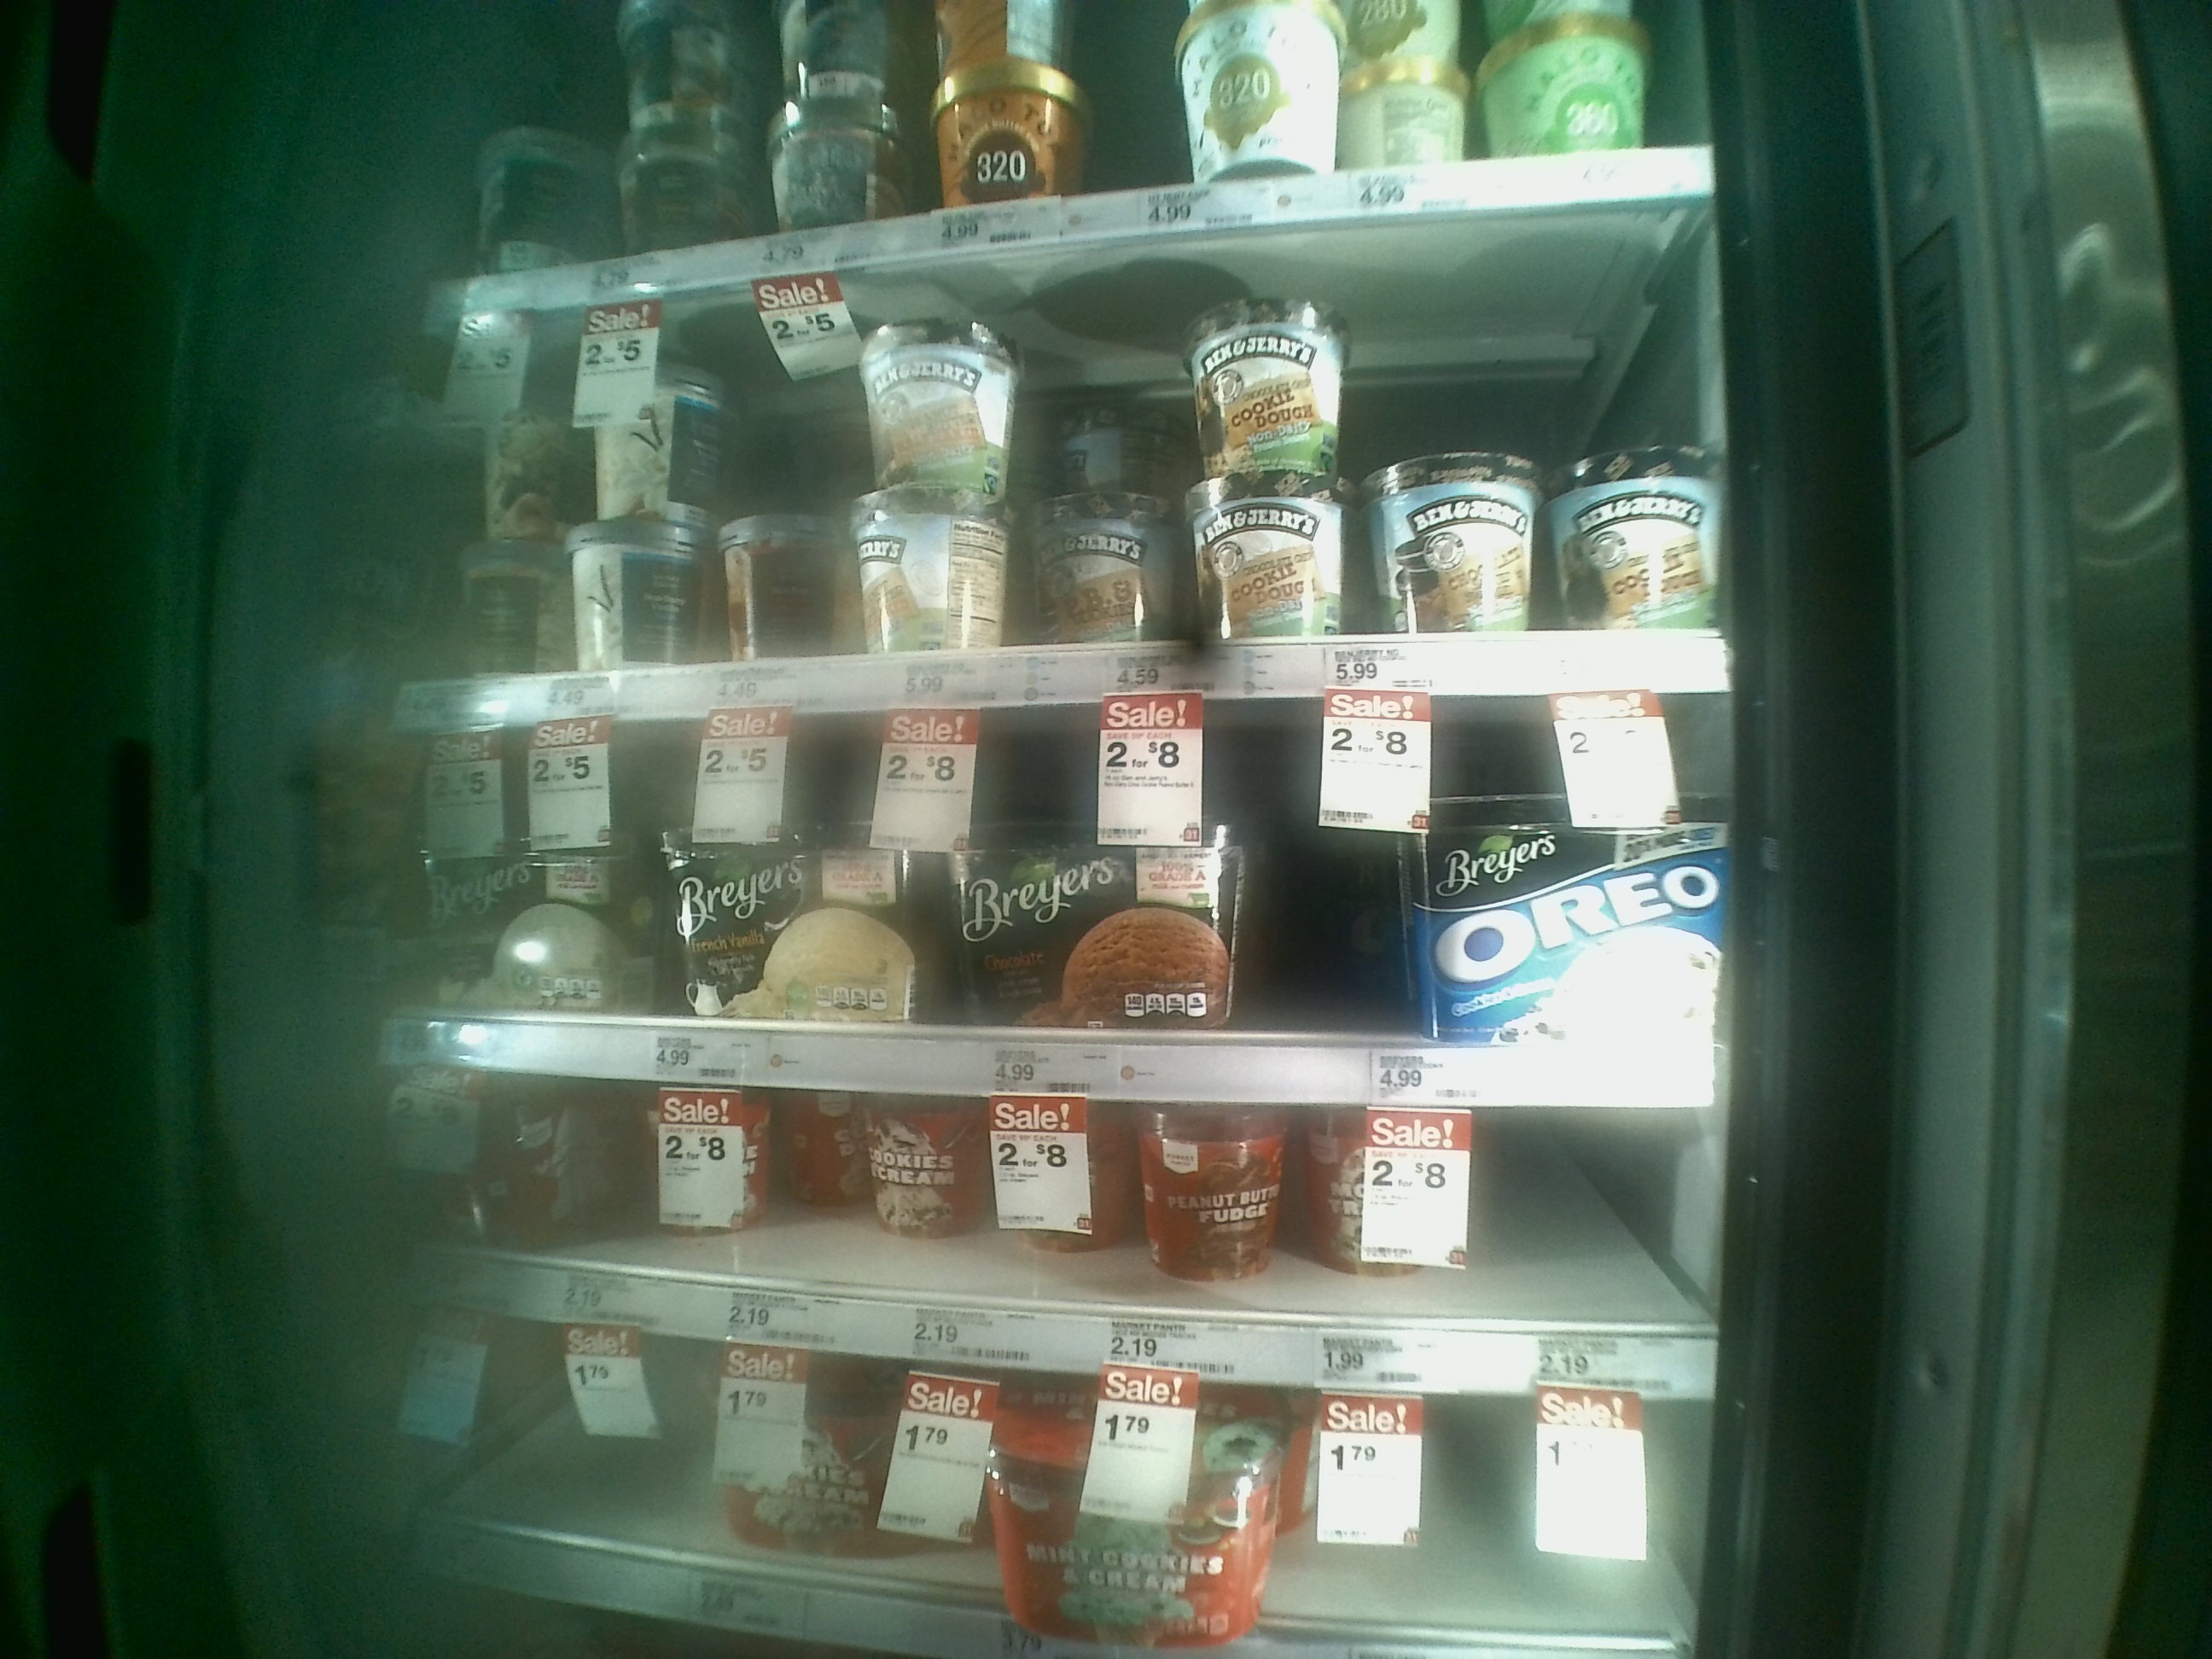ice-cream-shelf: (434, 699, 1740, 1103), (446, 1089, 1721, 1385)
